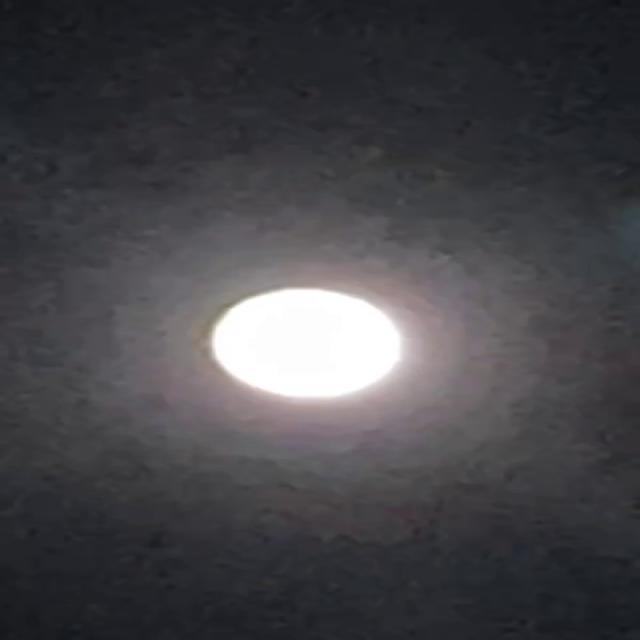moon: (196, 268, 419, 412)
